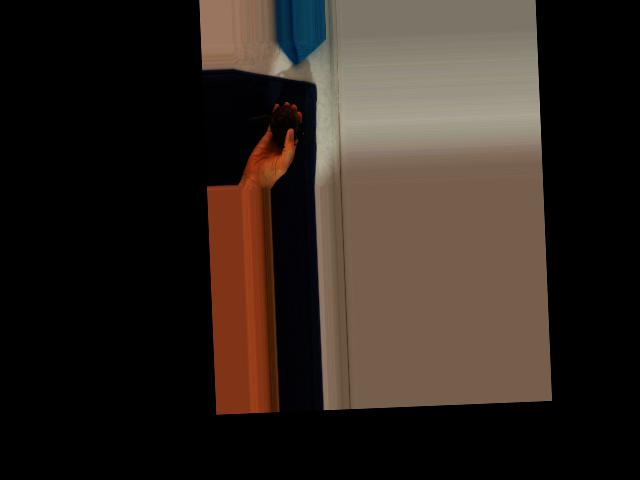beet: (246, 104, 305, 147)
